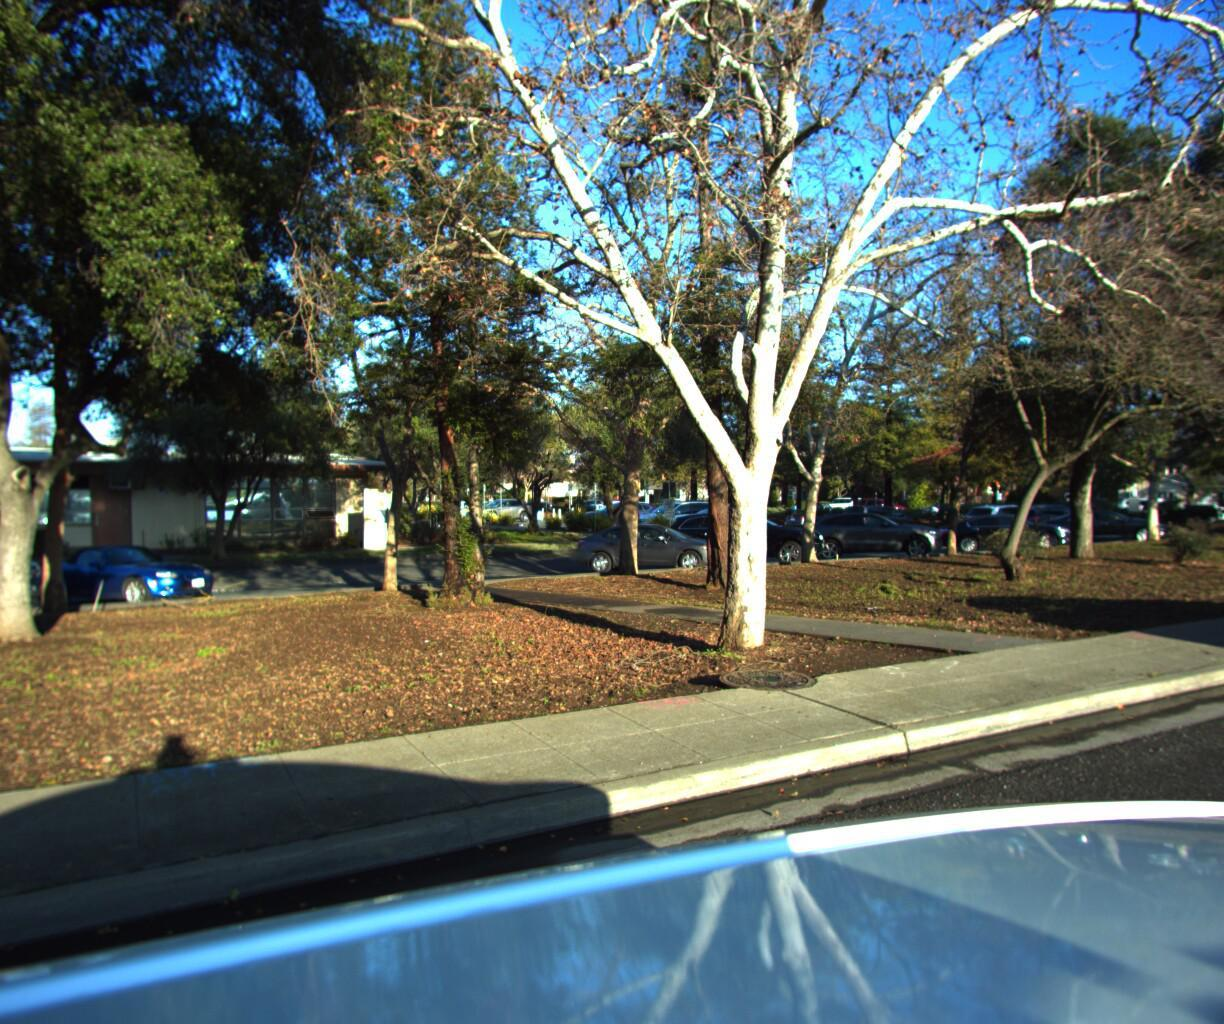car: (821, 492, 872, 511)
